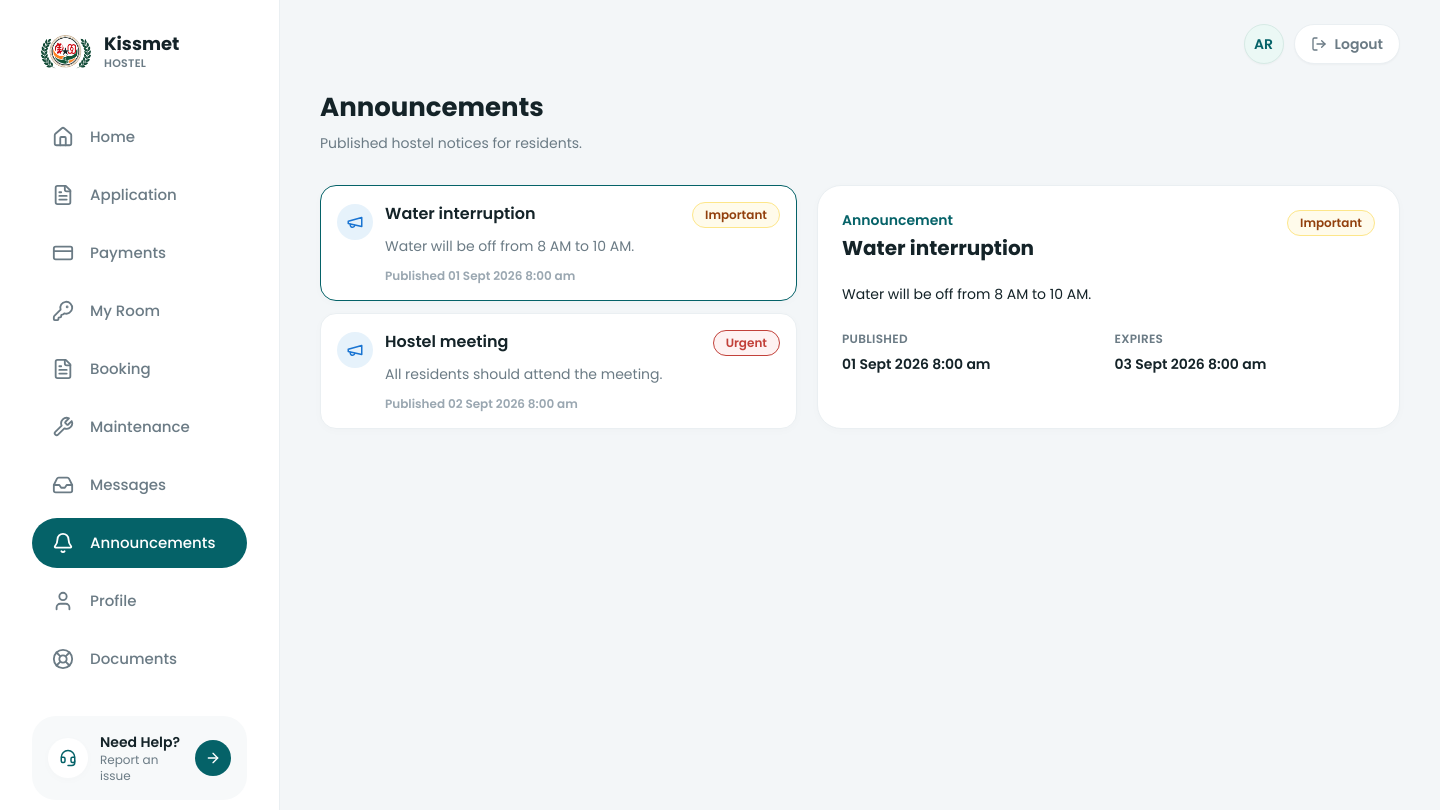
Test: resident announcements › loads detail through the resident endpoint and fails hidden detail safely
This screenshot has width=1440, height=810.
Click the button "Hostel meeting" at (558, 371), box [320,313,797,429]
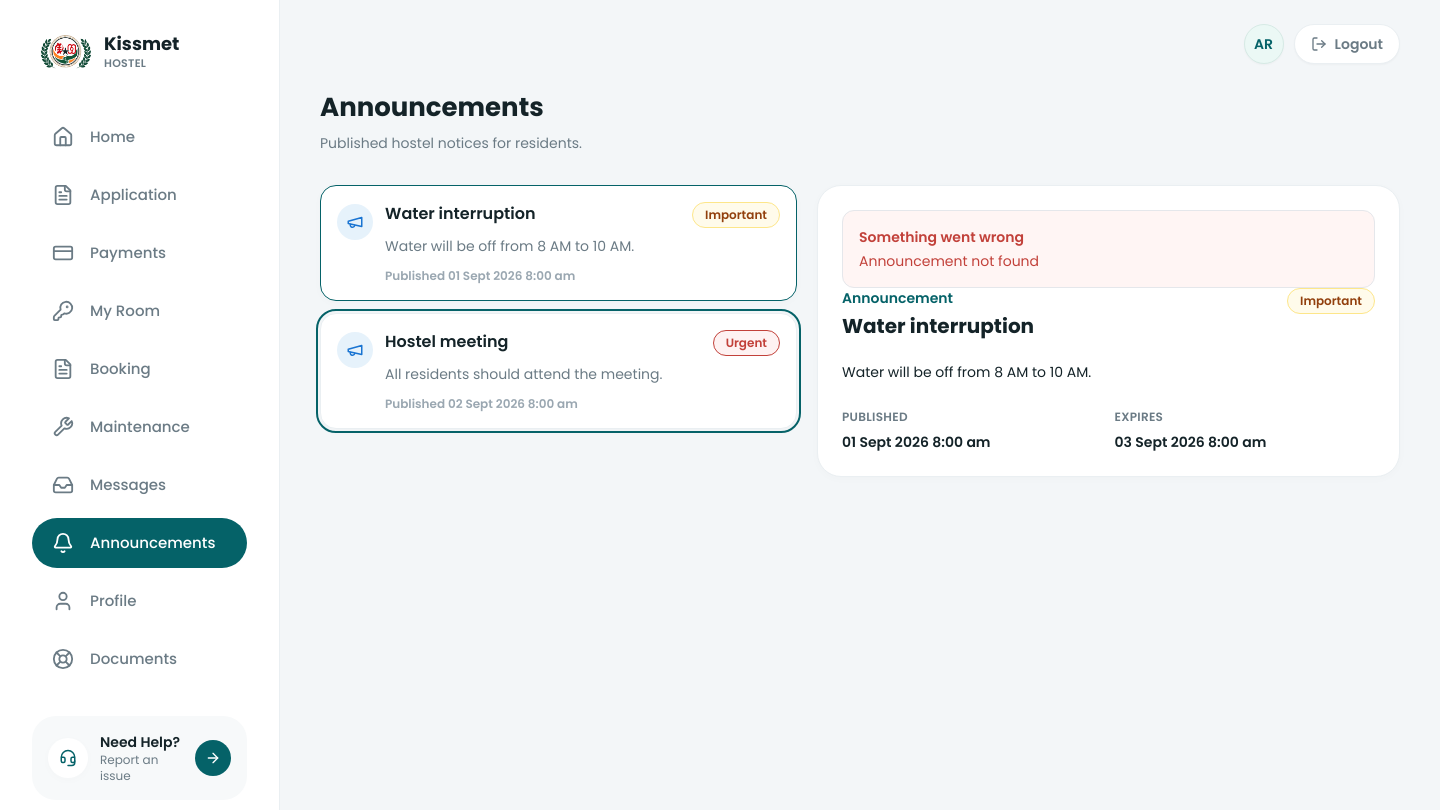
Expected: the text "Water interruption" is shown, [385,202,536,226]
Expected: the text "Announcement not found" is shown, [859,251,1039,271]
